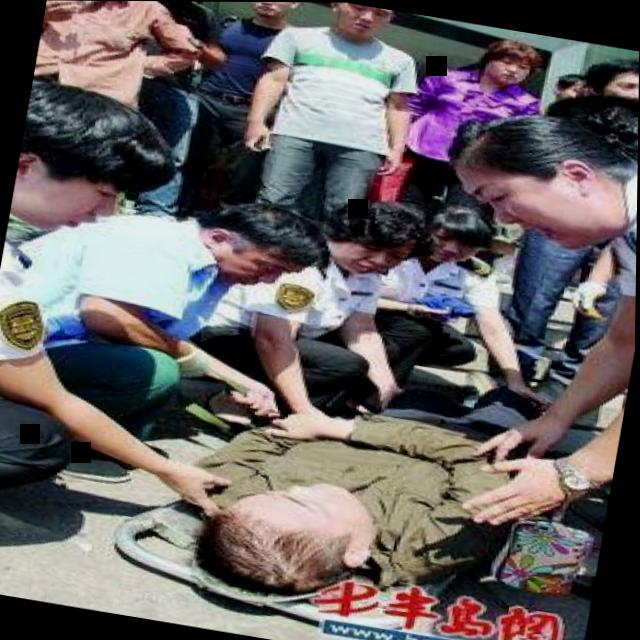Fall-Detected: (149, 324, 555, 640)
